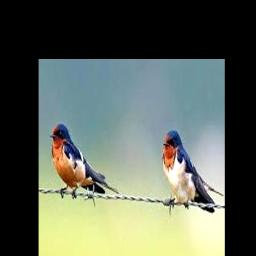Swallow: (48, 123, 119, 197), (161, 130, 223, 213)
